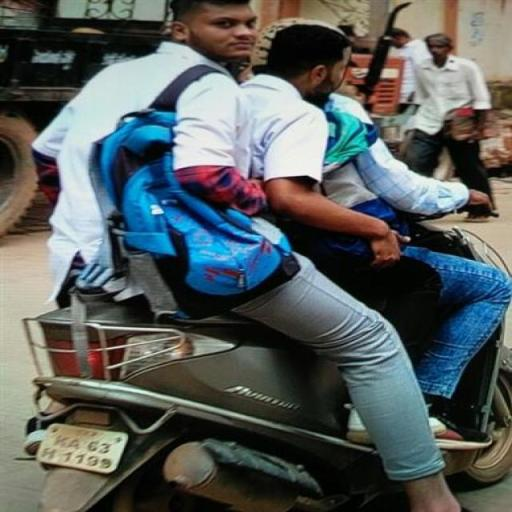tripple riding: (34, 0, 512, 293)
